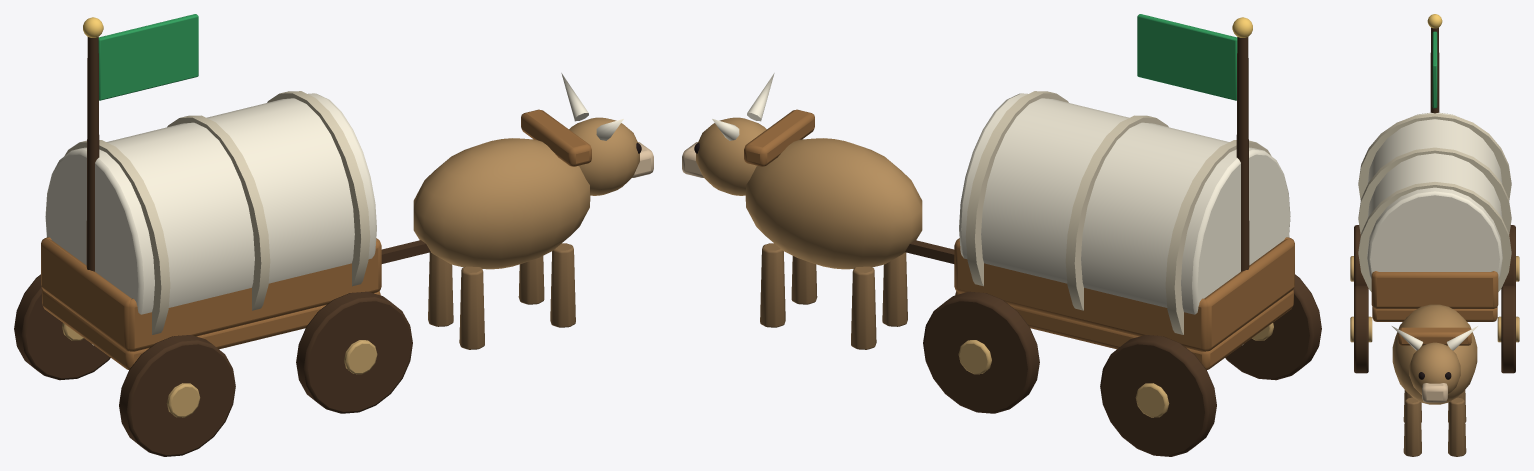
File: unit-wanted.glb
The picture shows the model from 3 angles, left to right: view 1: azimuth 30°, elevation 25°; view 2: azimuth 150°, elevation 25°; view 3: azimuth 270°, elevation 25°; orthographic projection. The views are drawn at different scales.
Parts seen in each view (by area): view 1: unit-wanted; view 2: unit-wanted; view 3: unit-wanted.
Boxes of the visible parts, x1,y1,x2,y2 form: unit-wanted: (14,14,653,456); unit-wanted: (682,14,1321,456); unit-wanted: (1350,14,1519,456).
Bounding box in the file's own units: 1.27 × 0.85 × 0.46.
